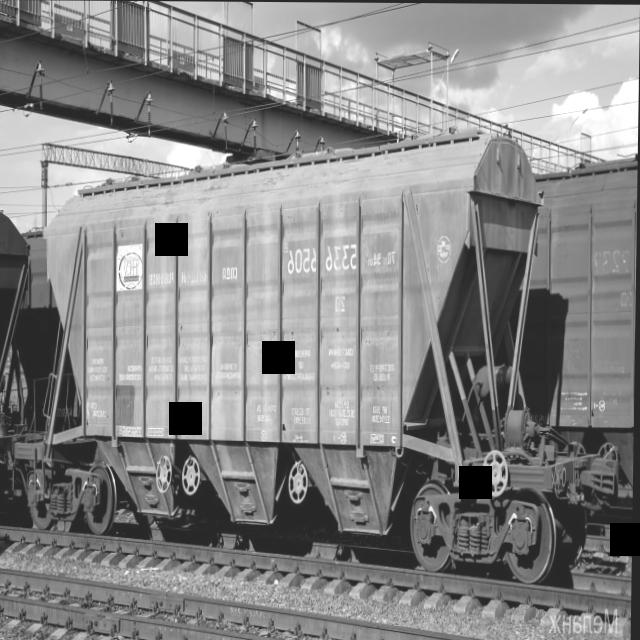hopper: (40, 104, 561, 601)
